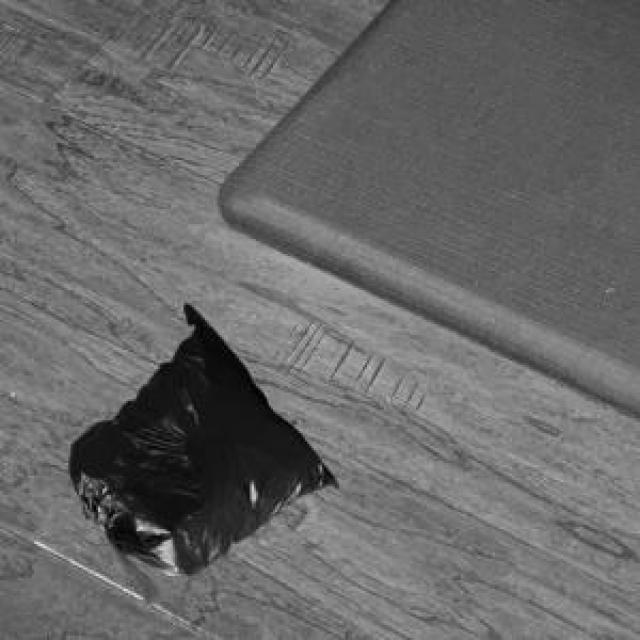miscellaneous trash: (66, 301, 333, 602)
